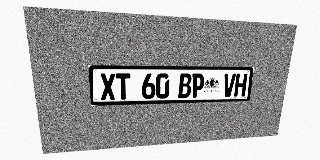0: (156, 73, 170, 99)
6: (142, 73, 156, 99)
B: (178, 73, 192, 98)
H: (234, 74, 248, 97)
P: (191, 73, 205, 98)
T: (115, 73, 131, 100)
V: (222, 74, 236, 97)
X: (100, 73, 116, 100)
